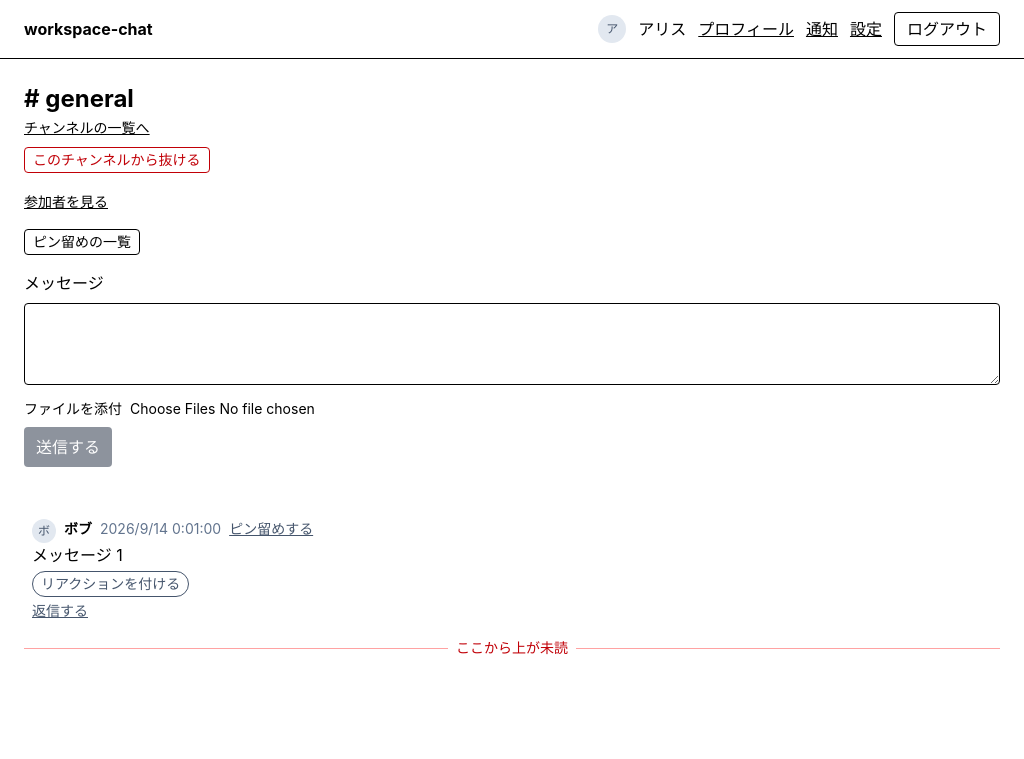
Scenario: チャンネルからの退出（F-10） › 抜けてから参加し直して開くと、メッセージを読み直し、抜けていた間の投稿を出す
The image size is (1024, 759).
Expected: the text "メッセージ 1" is shown, [32,545,123,565]
Step 1. Click the button "このチャンネルから抜ける" → (117, 160), box [24,147,210,173]
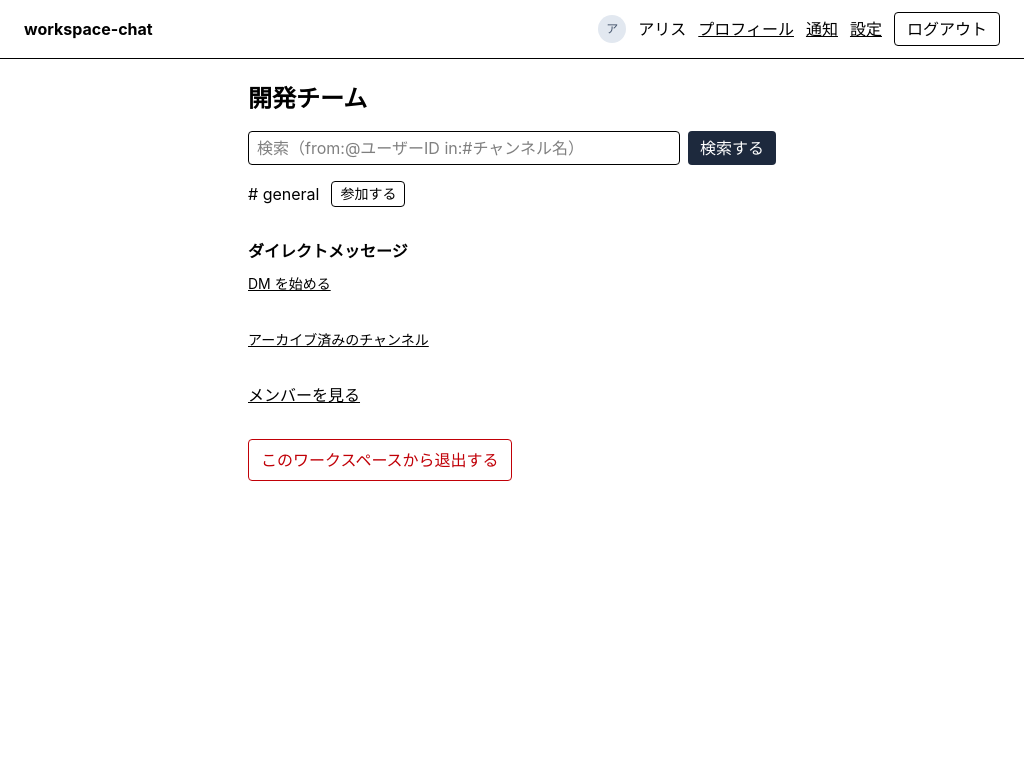
Step 2. Click the button with aria-label "general に参加する" → (368, 194), box [331,181,405,207]
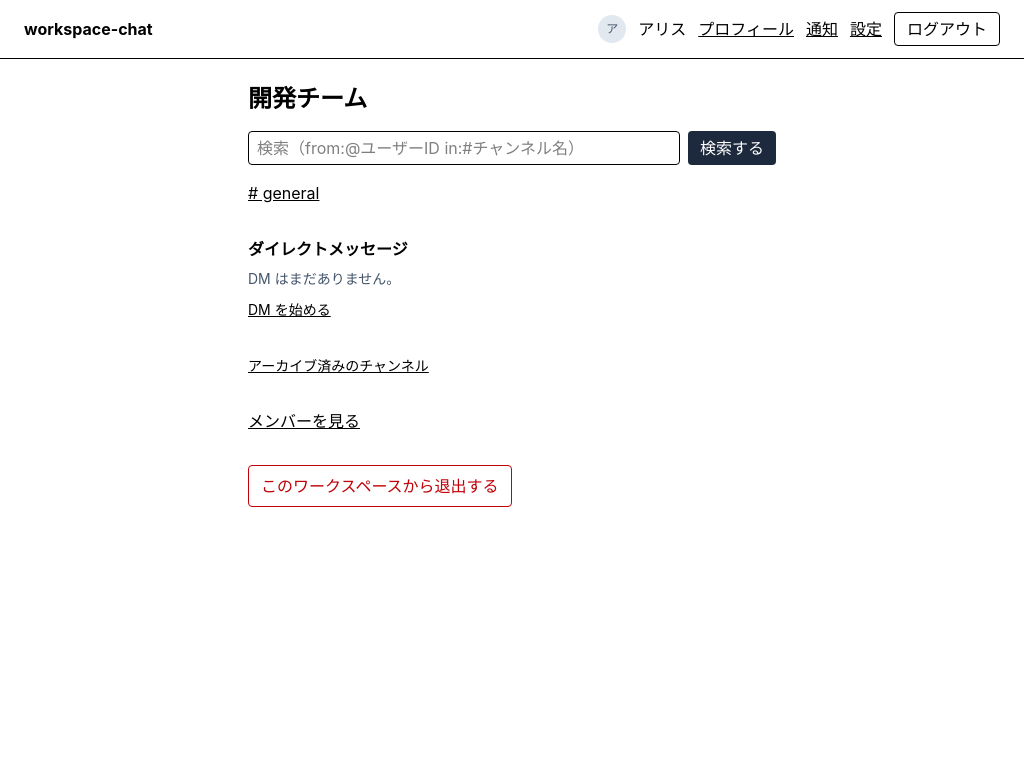
Step 3. Click the link "# general" → (284, 193), box [248,181,319,205]
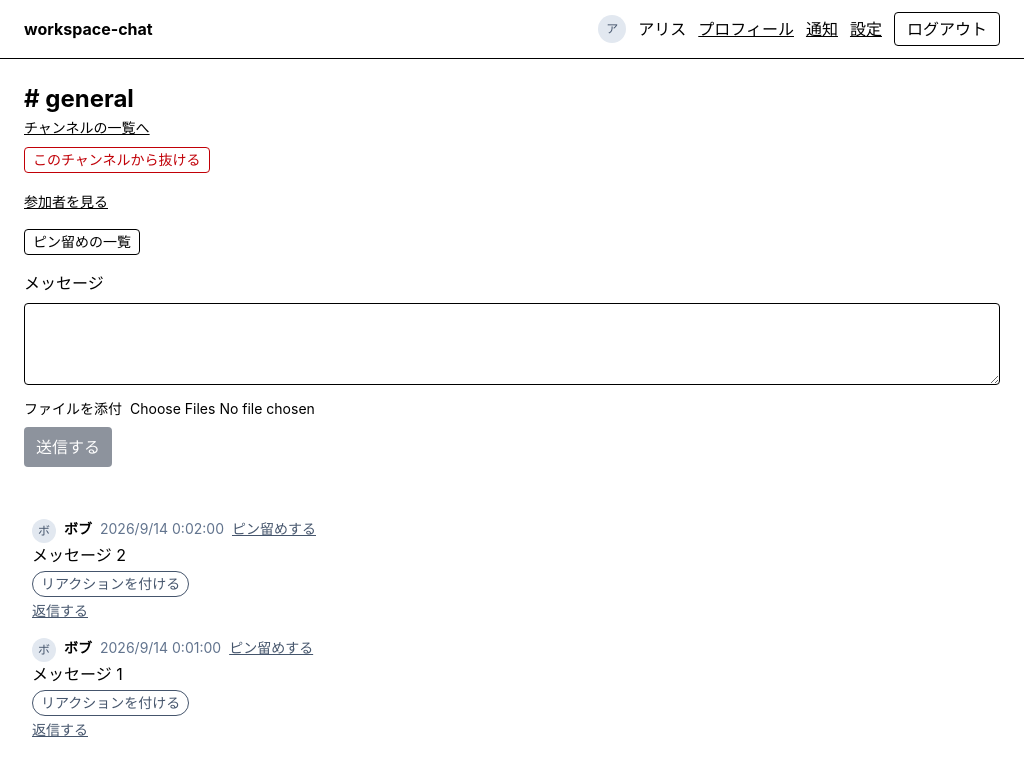
Expected: the text "メッセージ 2" is shown, [32,545,126,565]
